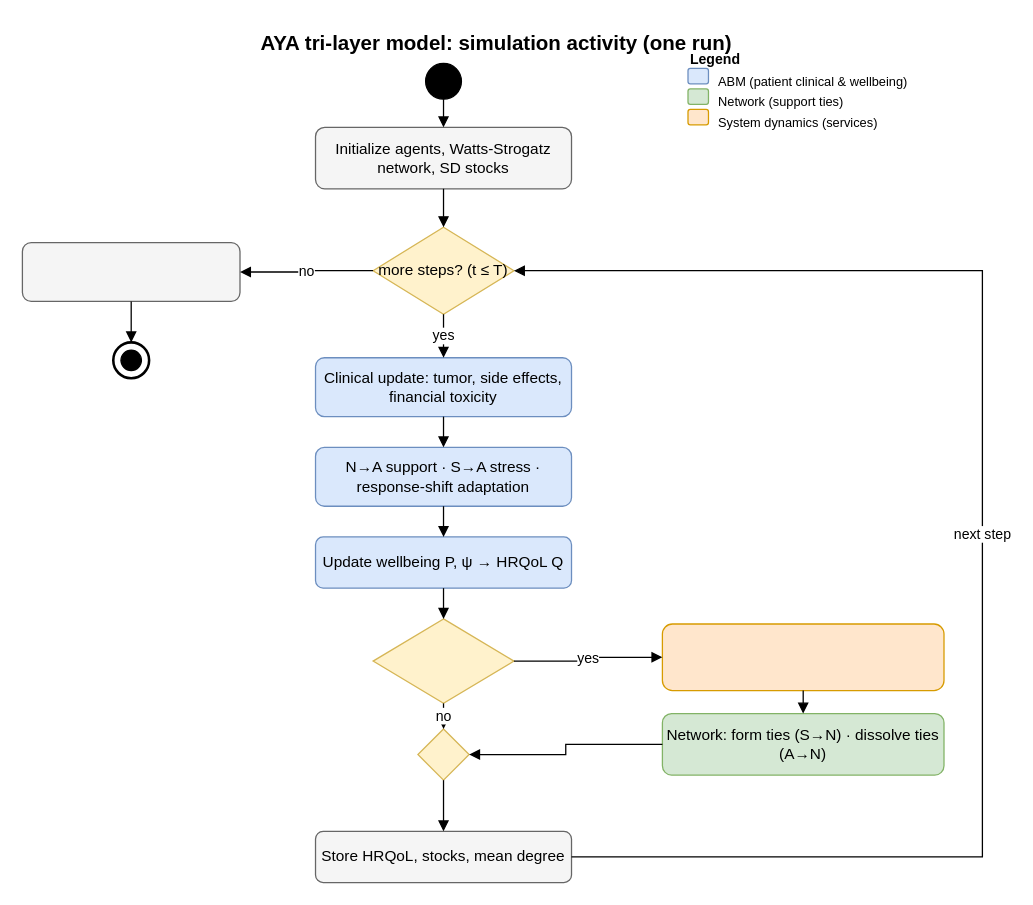
This 1033x905 diagram has some shape labels left out. Each missing label, with the centre of its shape:
"month boundary?" goes at [443,660].
"Package outputs: trajectories, stocks, network" goes at [130,271].
"System dynamics: referral queue (inflow demand → served ≤ capacity)" goes at [802,657].
